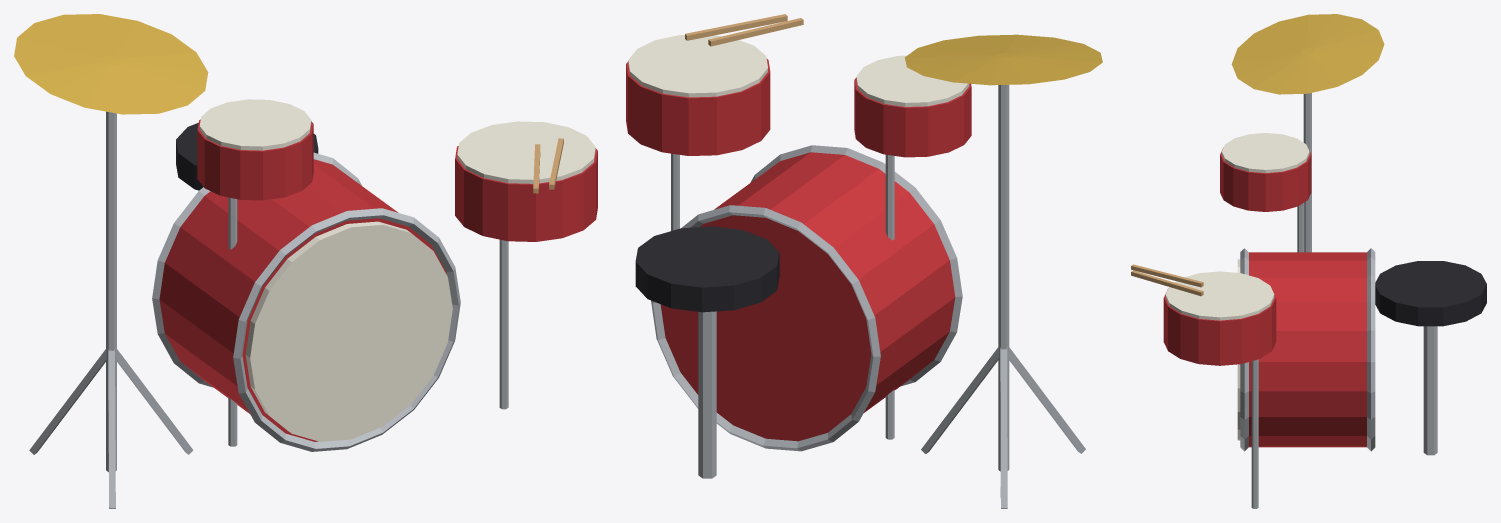
The model's file is home_drum_v01.glb.
The picture shows the model from 3 angles, left to right: view 1: azimuth 30°, elevation 25°; view 2: azimuth 150°, elevation 25°; view 3: azimuth 270°, elevation 25°; orthographic projection. The views are drawn at different scales.
Parts seen in each view (by area): view 1: drum; view 2: drum; view 3: drum.
Part boxes in pixels (x1,y1,x2,y2): drum: [14, 14, 597, 508]; drum: [626, 14, 1102, 508]; drum: [1131, 14, 1486, 508].
Size of the model in its own units: 1.3 by 1.04 by 1.01.
